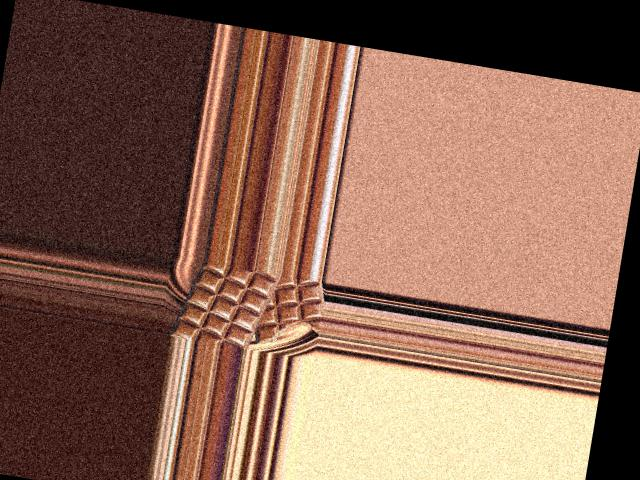chocolate: (168, 257, 282, 351)
